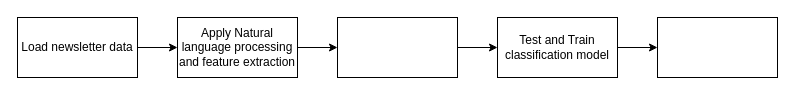
Some shapes in this 795 by 95 pixel diagram are drawn without their labels. Here are the shapes that lost their labels. From the top down, the box of each, then its label:
(336, 16, 458, 78): Split Data Into Test-Train-Split
(656, 16, 778, 78): Error analysis and model evaluation
